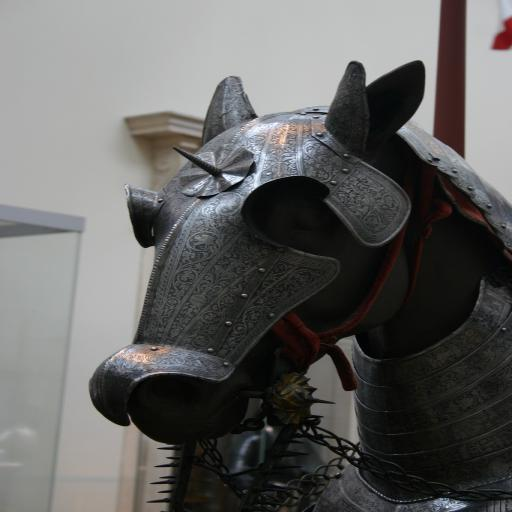horse: (132, 60, 512, 448)
